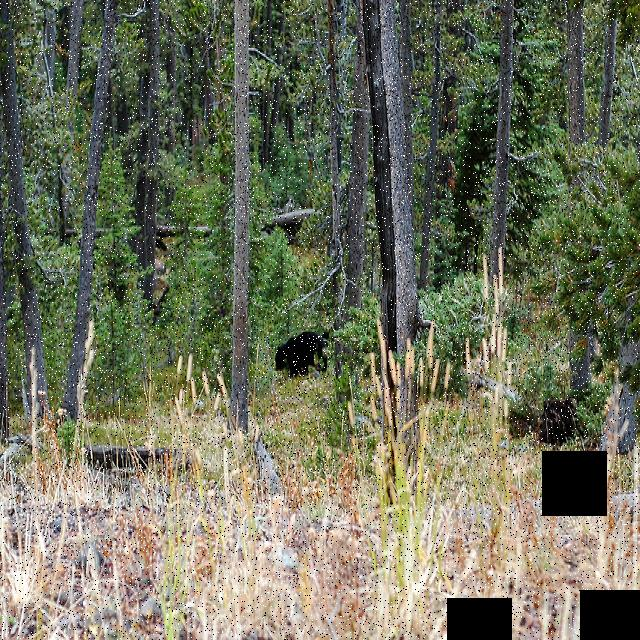Bear: (270, 327, 335, 386)
